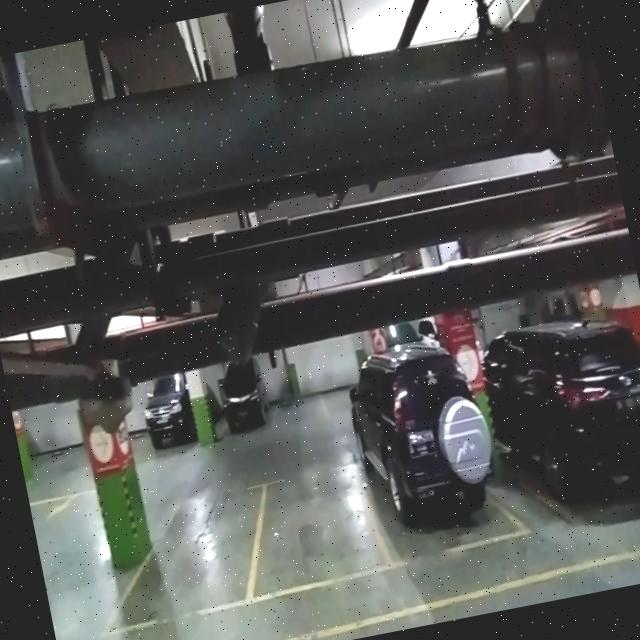empty: (124, 486, 282, 630), (248, 462, 380, 598)
occupied: (349, 393, 514, 568)
